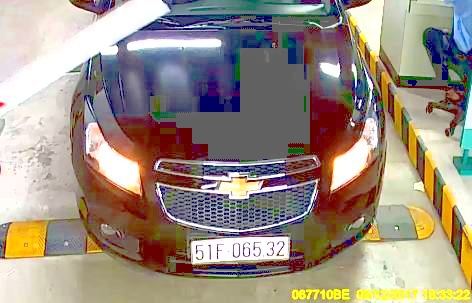plate: (188, 231, 292, 264)
